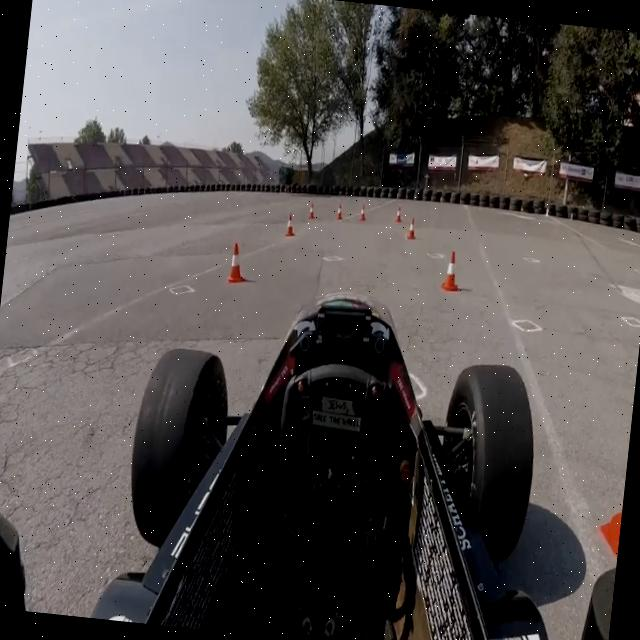orange_cone: (595, 412, 632, 566), (441, 247, 464, 294), (225, 238, 248, 285), (404, 214, 418, 242), (284, 214, 296, 238), (394, 204, 404, 223), (335, 202, 344, 220), (358, 202, 366, 222), (308, 200, 316, 220)
